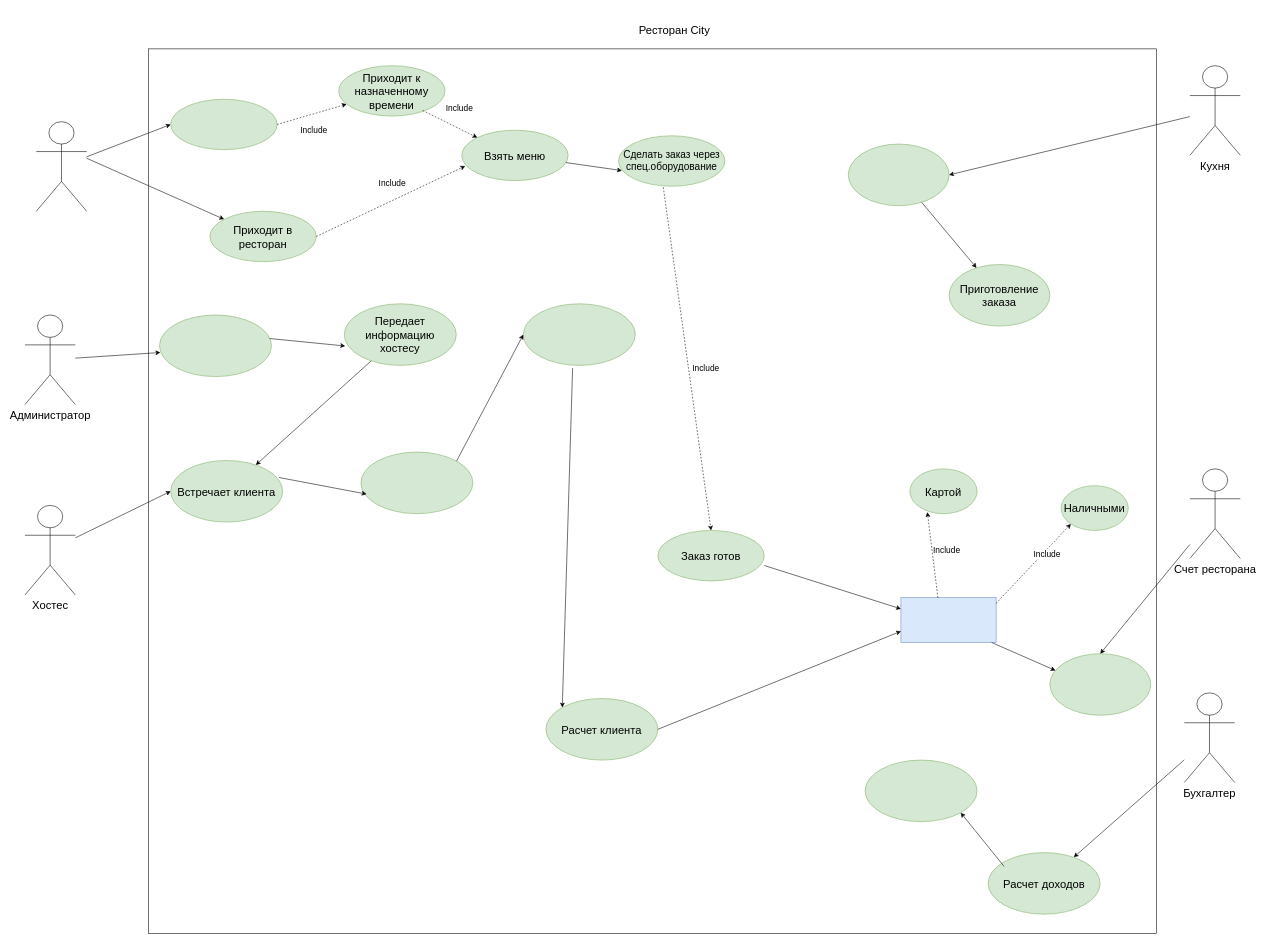
This 1266x944 diagram has some shape labels left out. The shapes that lost their labels are listed below. From the top down, each one's box as (x1, y1, x2, y2) in pixels, then its label:
(170, 99, 277, 150): Бронирует столик
(36, 121, 87, 211): Клиент
(848, 144, 949, 206): Получение информации о заказе
(159, 314, 271, 377): Вносит данные о резервации столика
(523, 303, 635, 365): Подает меню
(360, 452, 473, 514): Проводит клиента до его столика
(900, 597, 996, 642): Оплата заказа
(1049, 653, 1151, 715): Получение чека
(865, 760, 977, 822): Внос информации о приходе клиентов
